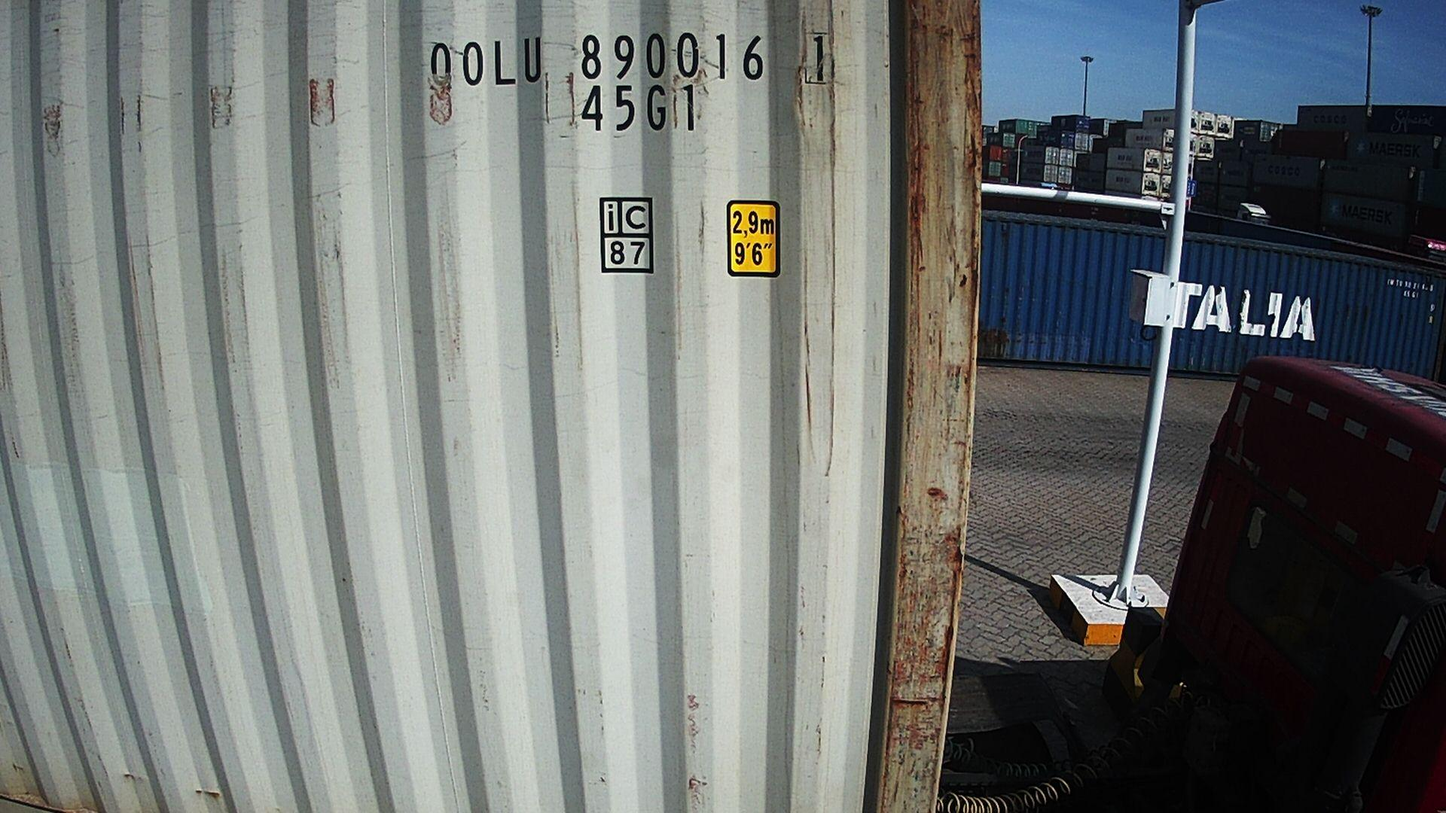container-numbers: (412, 28, 835, 88), (575, 82, 704, 138)
